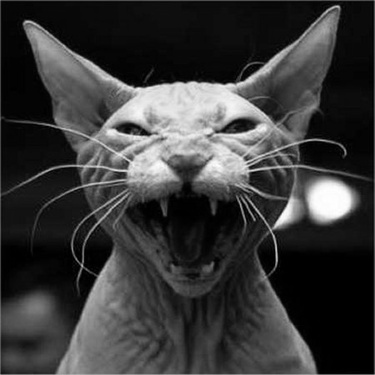cat: (21, 3, 342, 372)
